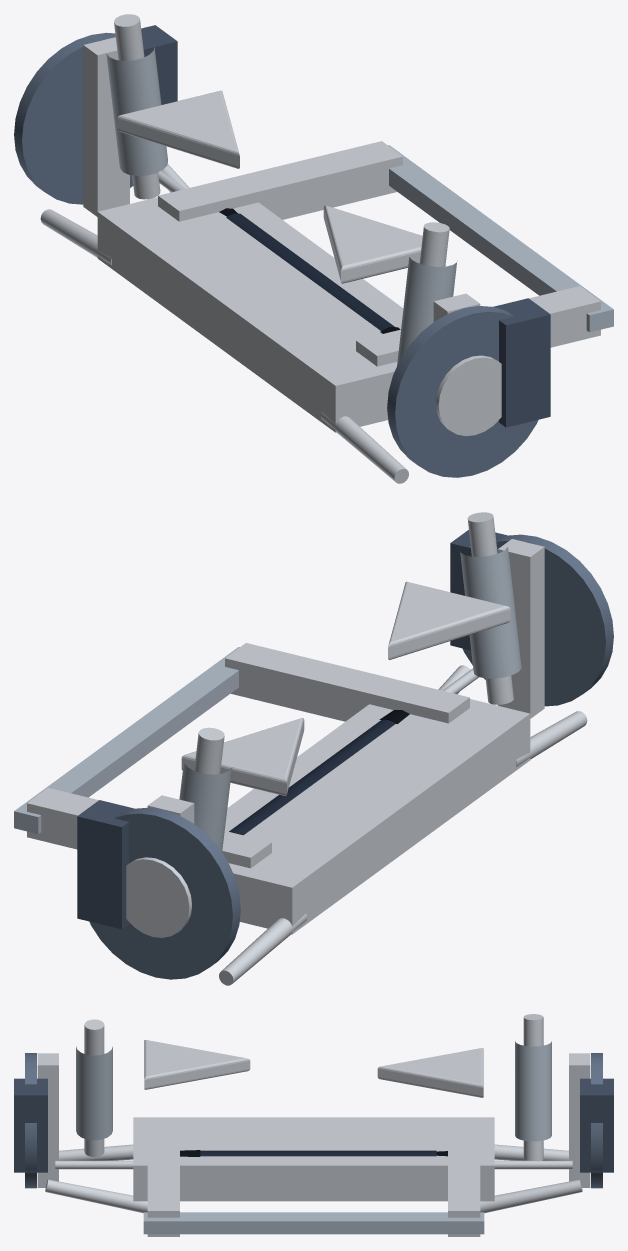
Rendered from front_subframe.glb.
3 renders of one model, top to bottom at view 1: azimuth 30°, elevation 25°; view 2: azimuth 150°, elevation 25°; view 3: azimuth 270°, elevation 25°, orthographic. The views are drawn at different scales.
Visible parts, largest first — view 1: Front_Subframe_Cradle, Front_Brakes_Assemblies, Front_Double_Wishbone_Suspension, Front_Steering_Rack; view 2: Front_Subframe_Cradle, Front_Brakes_Assemblies, Front_Double_Wishbone_Suspension, Front_Steering_Rack; view 3: Front_Subframe_Cradle, Front_Double_Wishbone_Suspension, Front_Brakes_Assemblies, Front_Steering_Rack.
Boxes of the visible parts, box(x1,y1,x2,y2) form: Front_Subframe_Cradle: box(97, 141, 613, 432); Front_Brakes_Assemblies: box(14, 25, 550, 477); Front_Double_Wishbone_Suspension: box(40, 14, 480, 483); Front_Steering_Rack: box(158, 171, 400, 333); Front_Subframe_Cradle: box(14, 643, 530, 934); Front_Brakes_Assemblies: box(77, 530, 613, 979); Front_Double_Wishbone_Suspension: box(147, 512, 587, 985); Front_Steering_Rack: box(229, 668, 478, 835); Front_Subframe_Cradle: box(133, 1117, 494, 1236); Front_Double_Wishbone_Suspension: box(37, 1014, 590, 1213); Front_Brakes_Assemblies: box(14, 1053, 613, 1188); Front_Steering_Rack: box(55, 1150, 572, 1169).
Size of the model in its own units: 0.73 by 0.537 by 1.68.
